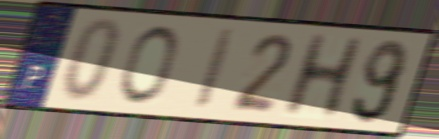0: (55, 15, 125, 106)
2: (230, 31, 294, 114)
9: (349, 36, 410, 127)
H: (277, 32, 368, 120)
I: (190, 26, 241, 114)
O: (116, 23, 180, 107)
